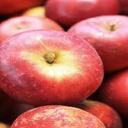apple: (45, 0, 123, 26)
